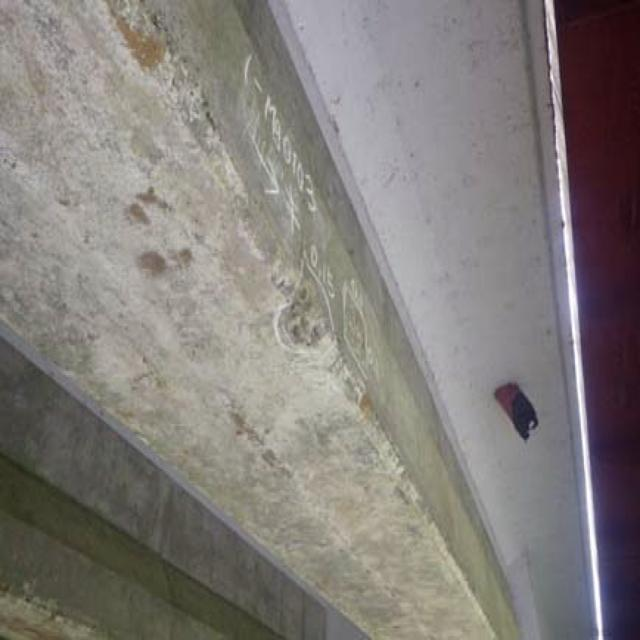corrosion: (490, 358, 556, 476)
spalling: (264, 247, 343, 370)
